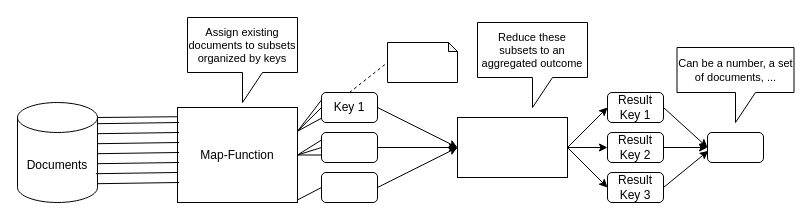
Image size: 812x220. Some labels were removed from this diagram. Each missing label, with the centre of its shape:
"Key 2" goes at (x=349, y=147).
"Key 3" goes at (x=349, y=187).
"key1 {document}" goes at (x=422, y=62).
"Reduce-Function" goes at (x=512, y=147).
"Result" goes at (x=735, y=147).
